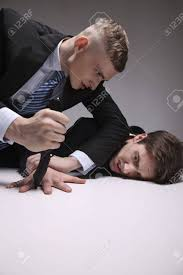knife: (28, 92, 69, 191)
